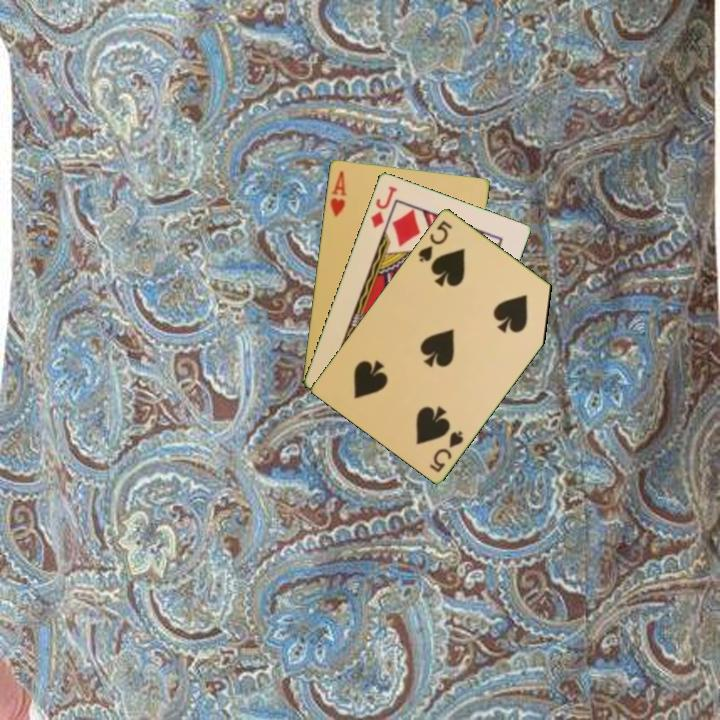5s: (414, 216, 455, 265), (426, 426, 467, 475)
Ah: (326, 167, 349, 220)
Jd: (367, 182, 400, 230)
